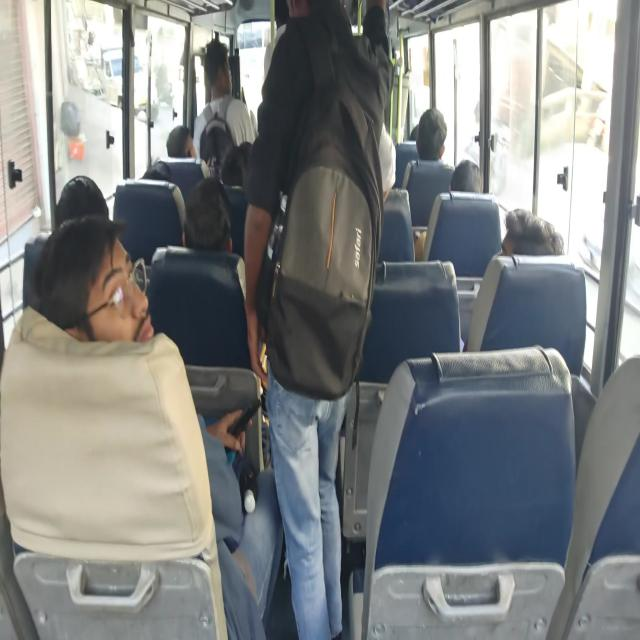person: (276, 0, 377, 292), (42, 240, 134, 376), (501, 204, 559, 288), (205, 44, 240, 125), (55, 172, 99, 234), (446, 153, 484, 213), (416, 99, 444, 175), (185, 193, 221, 245), (165, 136, 206, 167), (150, 152, 179, 192), (235, 146, 262, 188), (271, 5, 294, 44), (222, 154, 245, 190), (406, 113, 416, 138)
